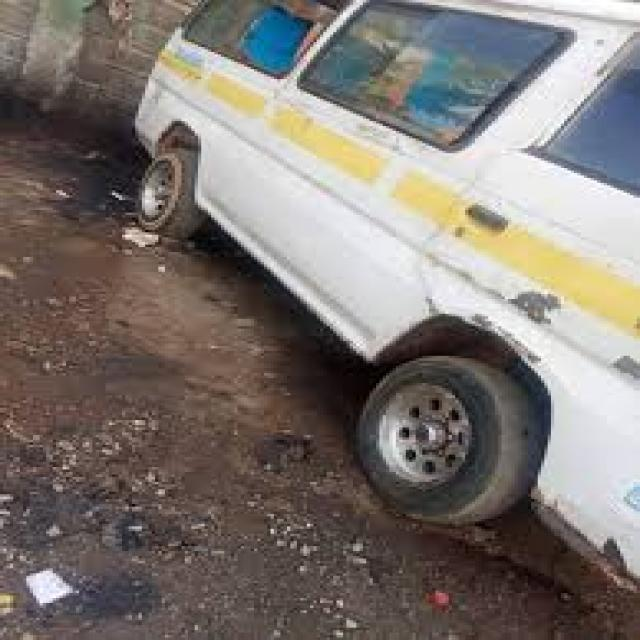matatu: (112, 0, 640, 606)
